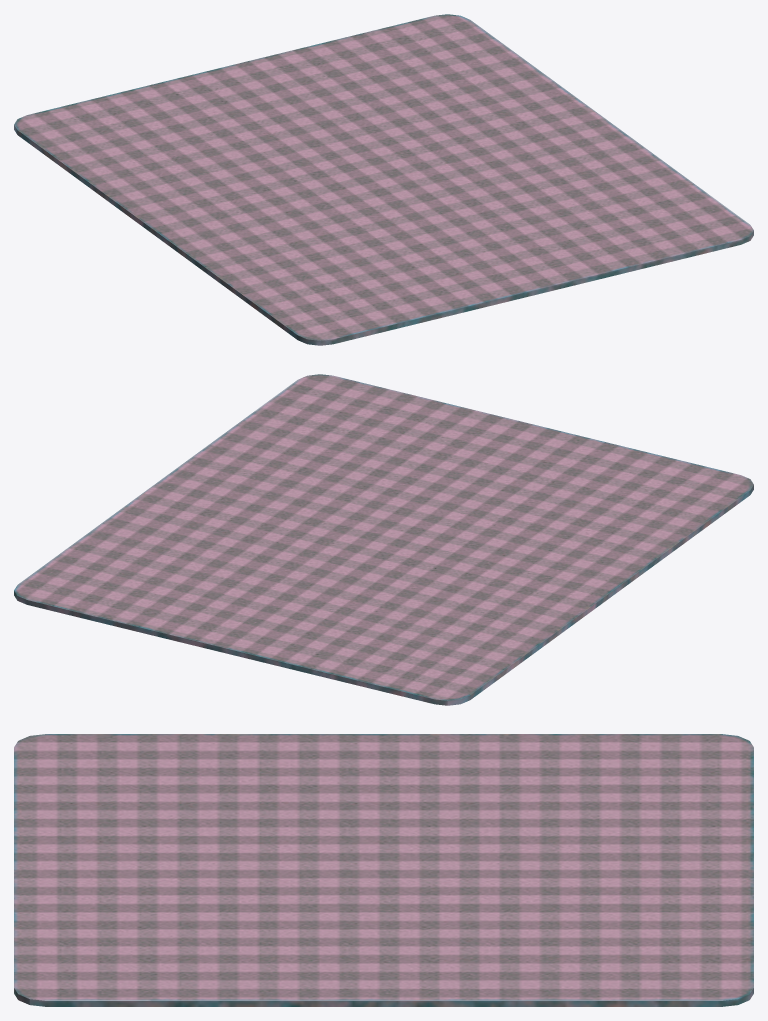
The model's file is SM_prop_Stage1_Carpet_01.fbx.
3 views of the same model, one above another, from view 1: azimuth 30°, elevation 25°; view 2: azimuth 150°, elevation 25°; view 3: azimuth 270°, elevation 25° (orthographic). The views are drawn at different scales.
Parts seen in each view (by area): view 1: SM_prop_Stage1_Carpet_01; view 2: SM_prop_Stage1_Carpet_01; view 3: SM_prop_Stage1_Carpet_01.
Boxes of the visible parts, x1,y1,x2,y2 form: SM_prop_Stage1_Carpet_01: (14, 14, 753, 345); SM_prop_Stage1_Carpet_01: (14, 374, 753, 705); SM_prop_Stage1_Carpet_01: (14, 734, 753, 1006).
Bounding box in the file's own units: 193 × 2.01 × 226.
1 material, 1 textured.
